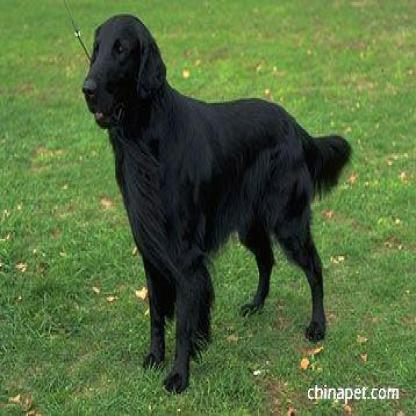Newfoundland: (79, 12, 353, 390)
